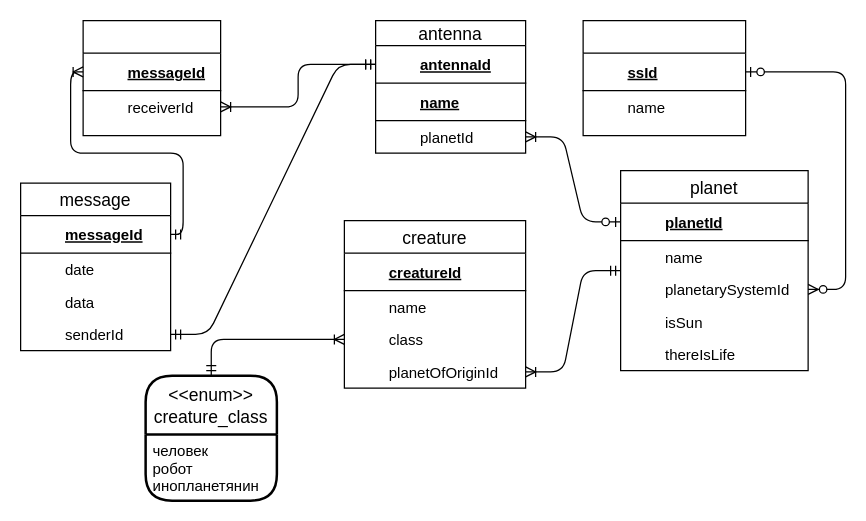
Some shapes in this 866 by 521 pixel diagram are drawn without their labels. Each missing label, with the box of its shape:
planetary_system: (582, 19, 746, 136)
transmission: (82, 19, 221, 136)
